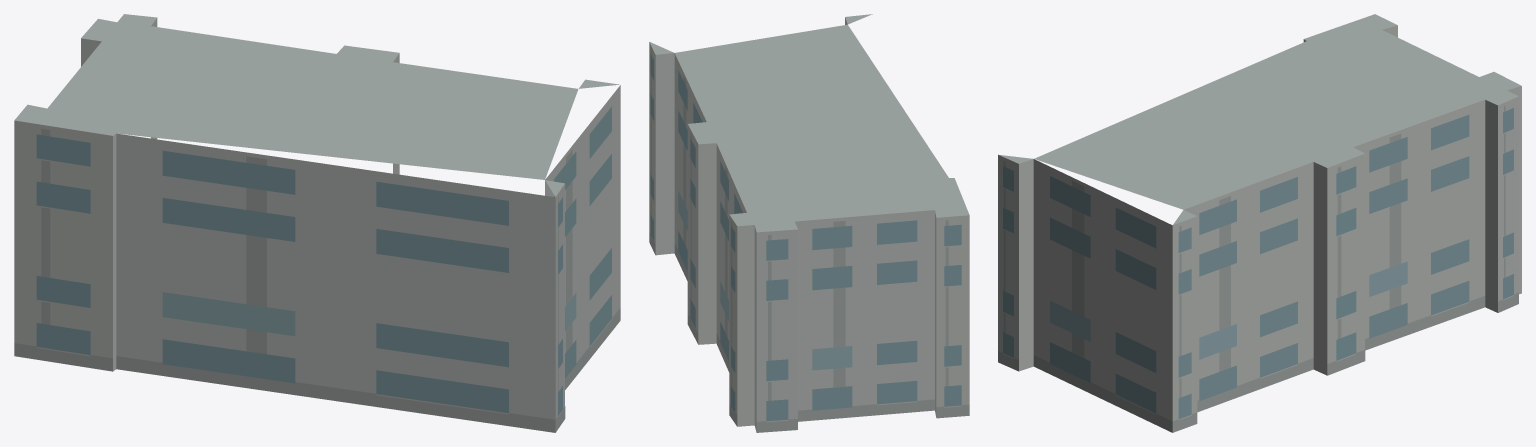
File: survey-upis-32630962.glb
3 views of the same model, side by side, from view 1: azimuth 30°, elevation 25°; view 2: azimuth 150°, elevation 25°; view 3: azimuth 270°, elevation 25° (orthographic). The views are drawn at different scales.
Parts seen in each view (by area): view 1: survey-upis-32630962.tmp; view 2: survey-upis-32630962.tmp; view 3: survey-upis-32630962.tmp.
Boxes of the visible parts, x1,y1,x2,y2 form: survey-upis-32630962.tmp: (14,14,620,432); survey-upis-32630962.tmp: (649,14,969,432); survey-upis-32630962.tmp: (998,14,1521,432).
Size of the model in its own units: 31.22 by 14.3 by 32.7.
